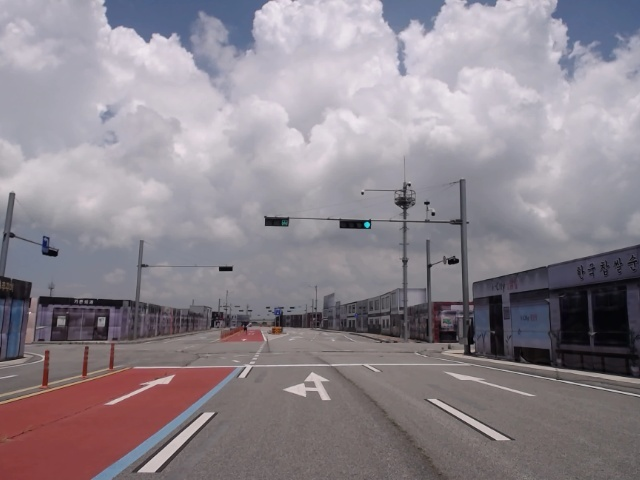straight_green_4: (340, 219, 371, 230)
